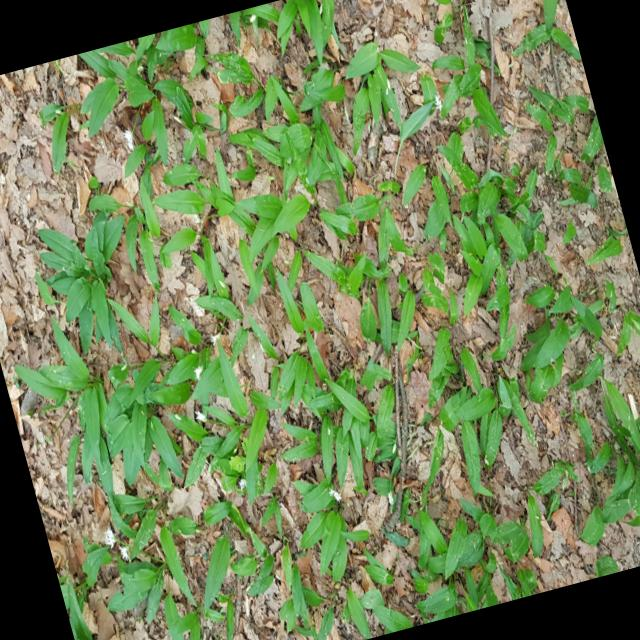grass: (14, 0, 640, 640)
